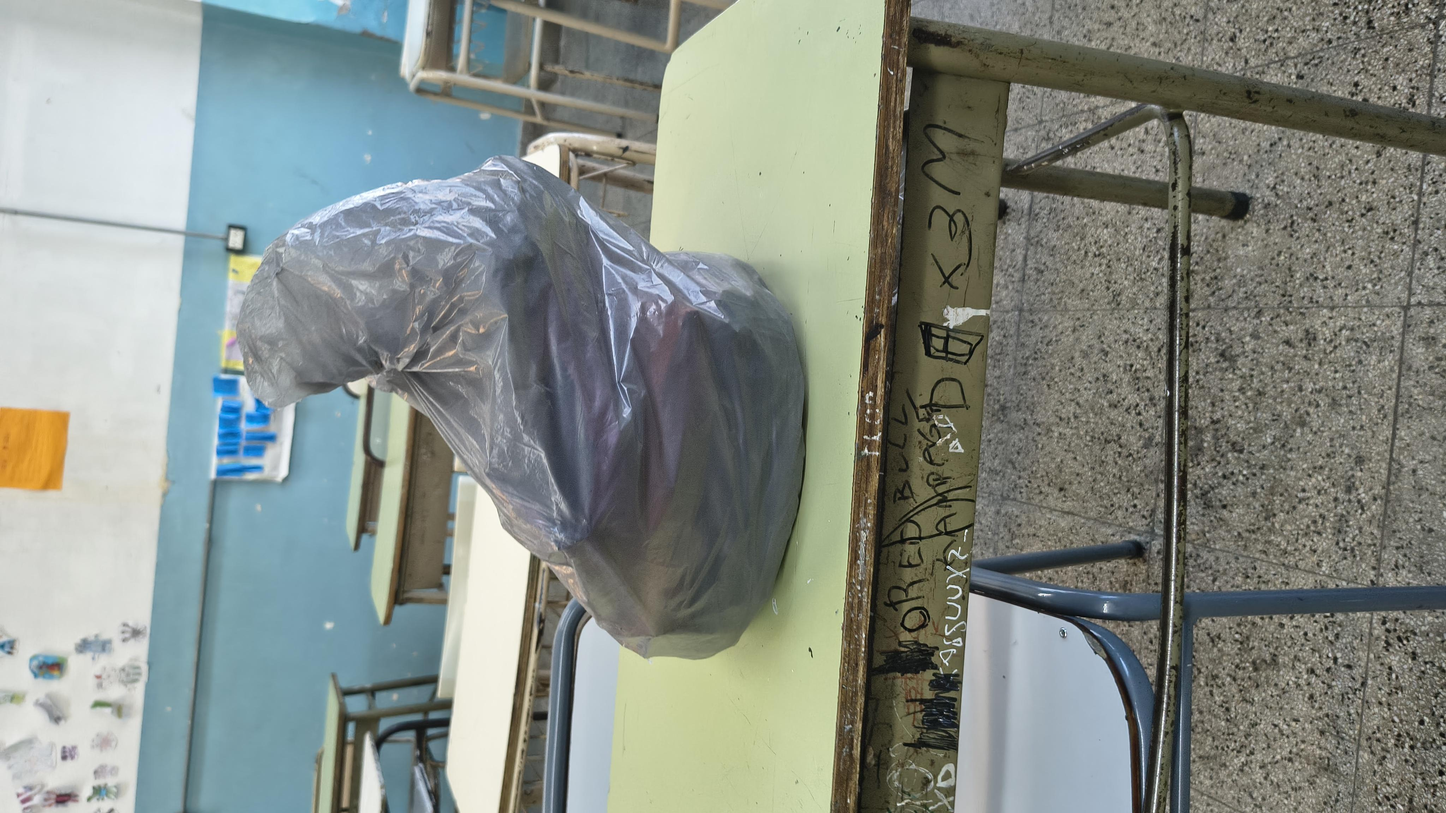Garbage: (169, 103, 1299, 514)
